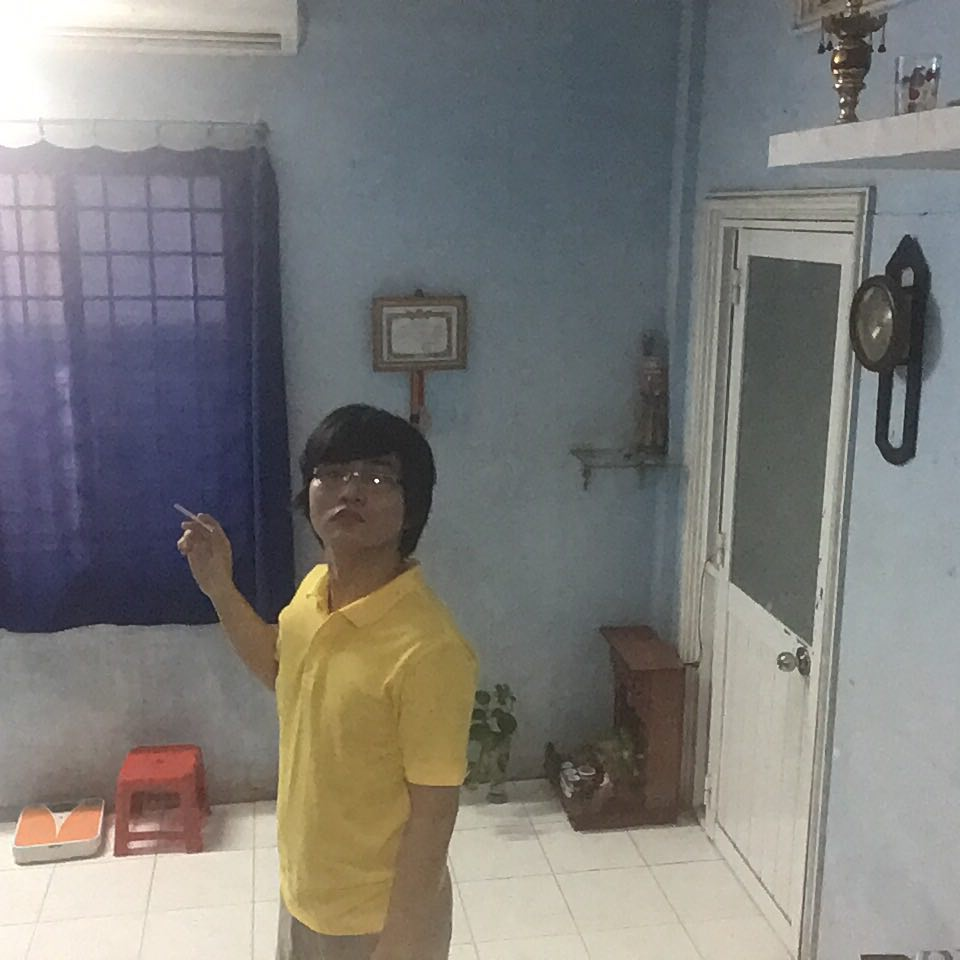cigarette: (172, 500, 197, 521)
person: (171, 390, 485, 960)
